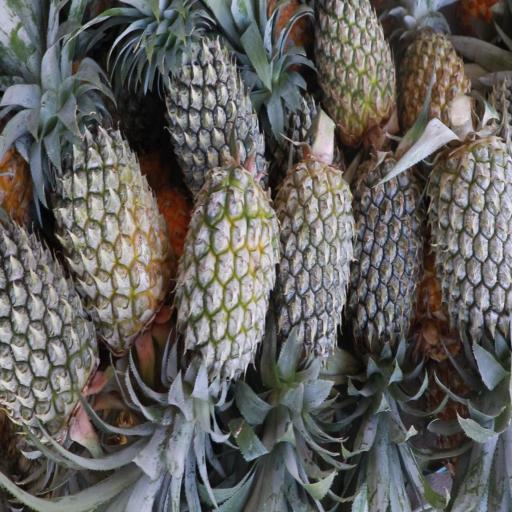------------------------------: (51, 111, 165, 338), (181, 172, 281, 394), (316, 0, 394, 142), (402, 15, 470, 150)
